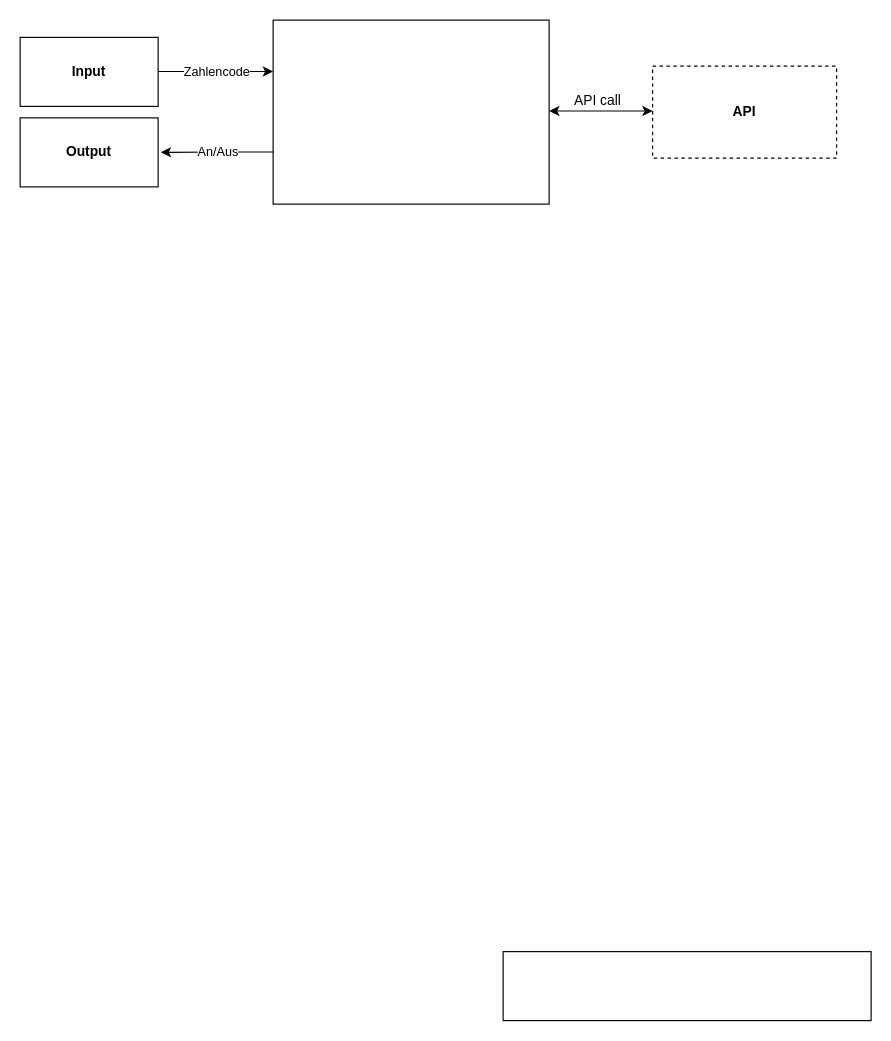
The diagram is 891 pixels wide and 1041 high, and some of its shapes have lost their labels. Here are the shapes that lost their labels. From the top down, the centre of each, then its label:
At pixel 410 111: "Arduino".
At pixel 686 985: "Blockschema V1.0 | 05.05.2021 | D.Demiraj".
